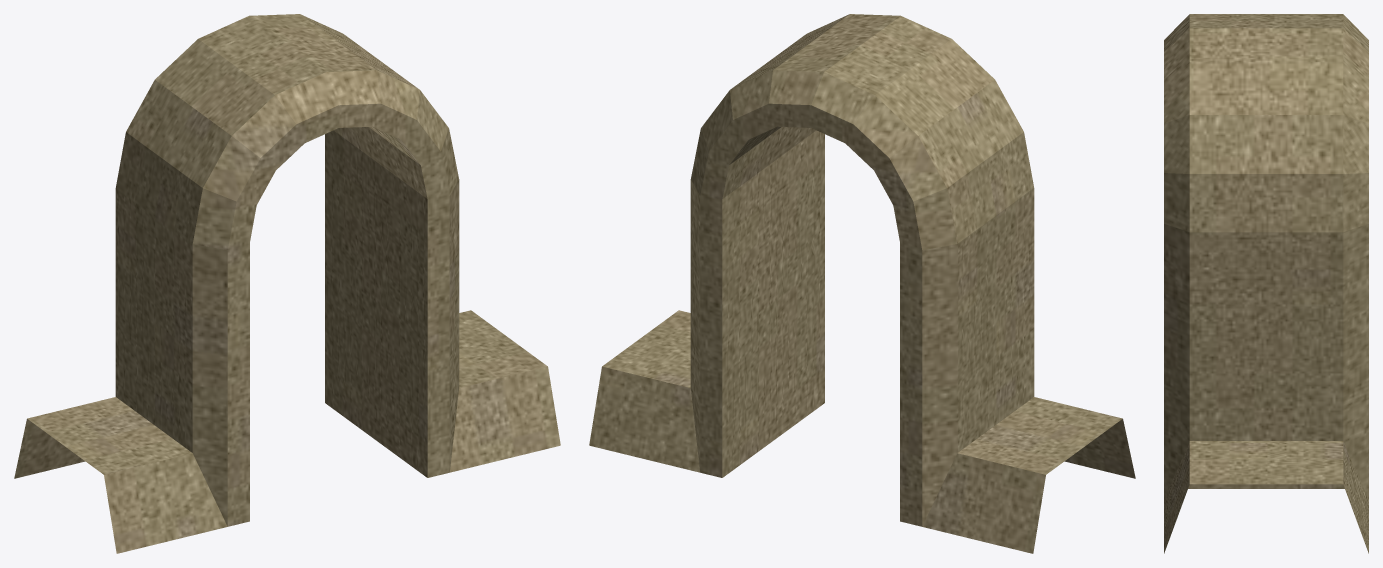
File: LibraryCorridorDoors.glb
3 renders of one model, left to right at view 1: azimuth 30°, elevation 25°; view 2: azimuth 150°, elevation 25°; view 3: azimuth 270°, elevation 25°, orthographic.
Visible parts, largest first — view 1: object2.001; view 2: object2.001; view 3: object2.001.
Boxes of the visible parts, x1,y1,x2,y2 form: object2.001: (14,14,560,553); object2.001: (589,14,1135,553); object2.001: (1164,14,1368,553).
Bounding box in the file's own units: 1 × 0.9 × 0.4.
1 material, 1 textured.
